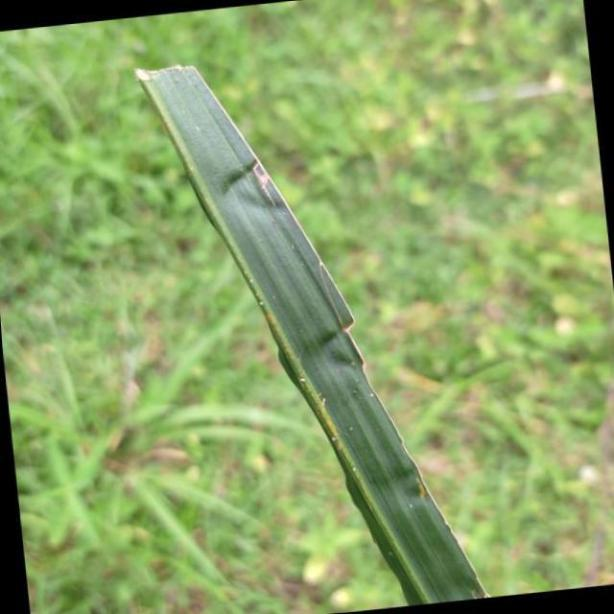Boron: (130, 66, 490, 610)
